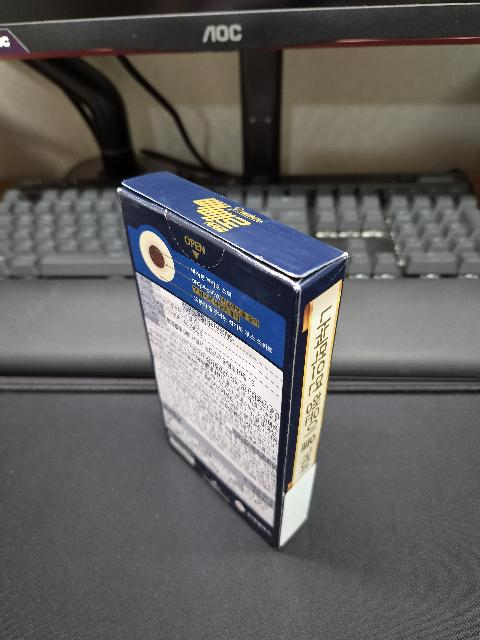pepero: (116, 172, 349, 551)
